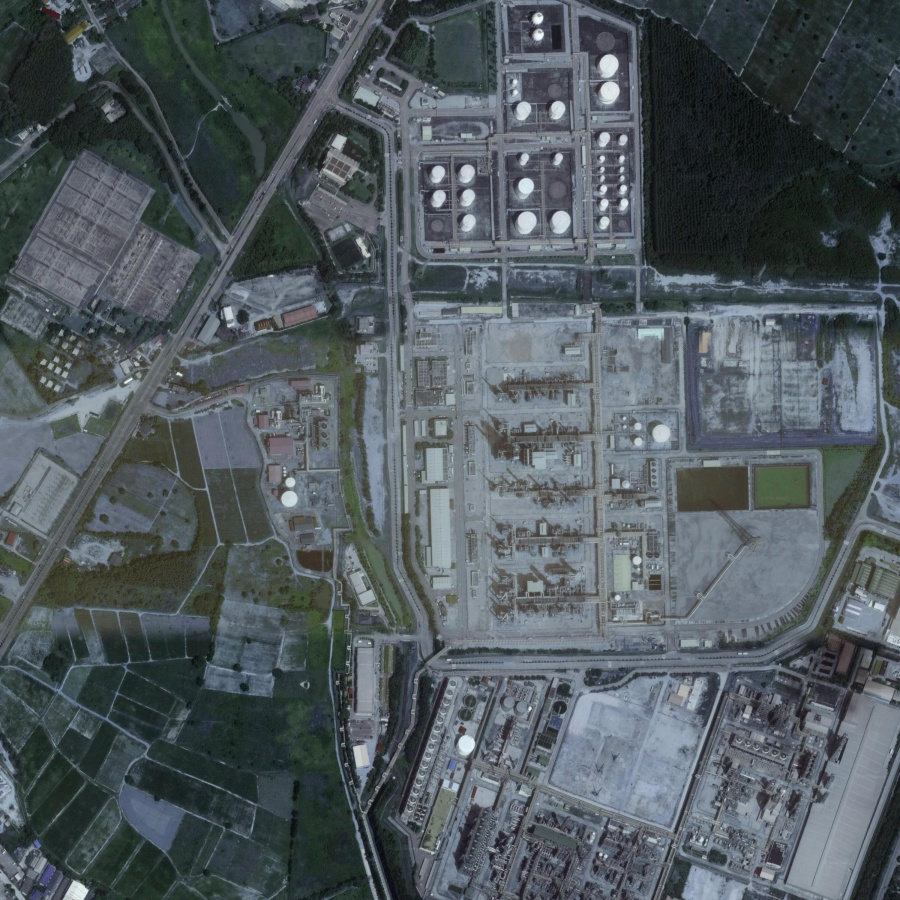PowerPlant: (278, 6, 681, 651)
